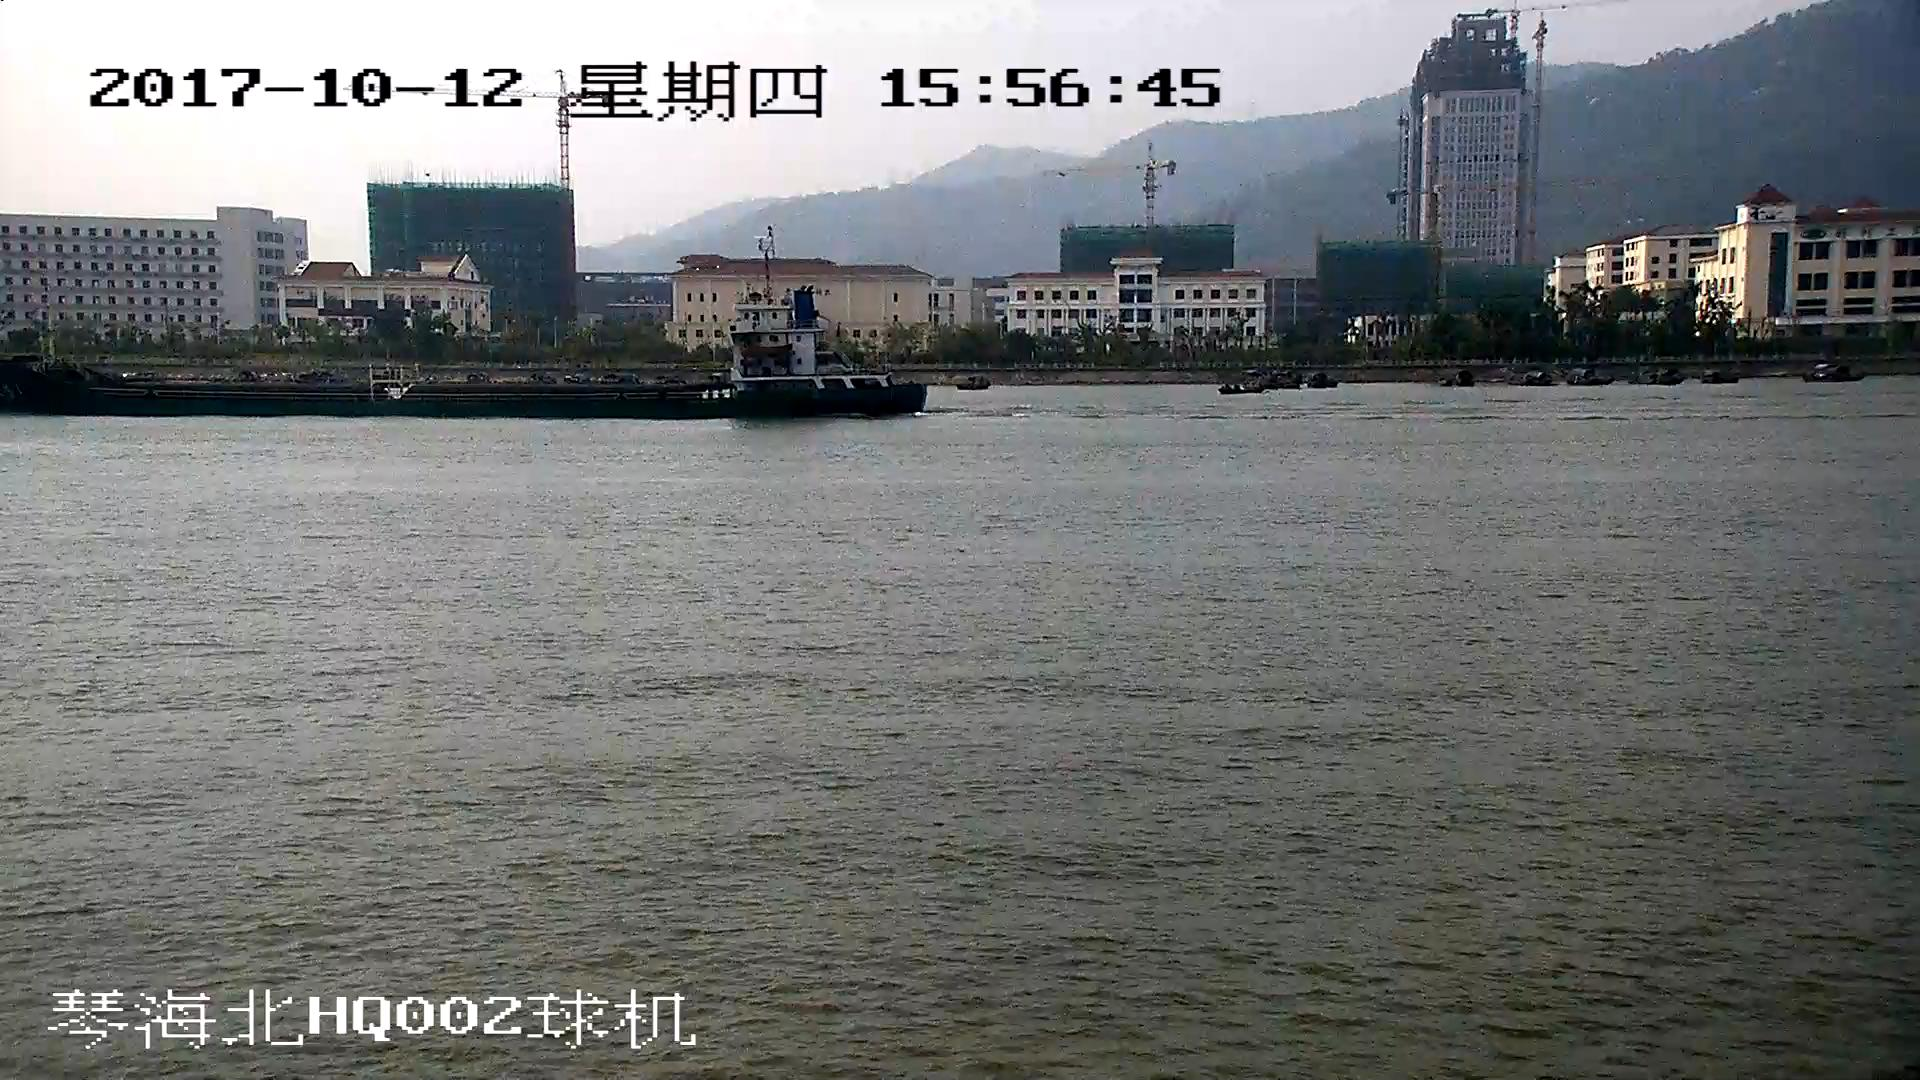general cargo ship: (1, 276, 930, 418)
